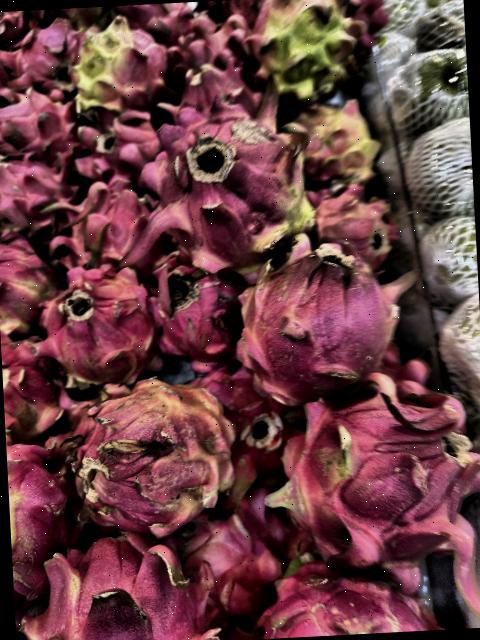buah-naga-belum-matang: (134, 89, 329, 273), (45, 374, 247, 540), (33, 254, 163, 390), (245, 0, 376, 114), (70, 10, 171, 126), (6, 430, 66, 600), (282, 92, 382, 192), (0, 234, 64, 337), (1, 333, 60, 441)
buah-naga-matang: (286, 383, 480, 590), (245, 243, 408, 404), (20, 532, 216, 640), (63, 174, 153, 270), (0, 84, 83, 170), (0, 153, 72, 247), (0, 20, 84, 100), (72, 110, 163, 182), (166, 55, 260, 122)
